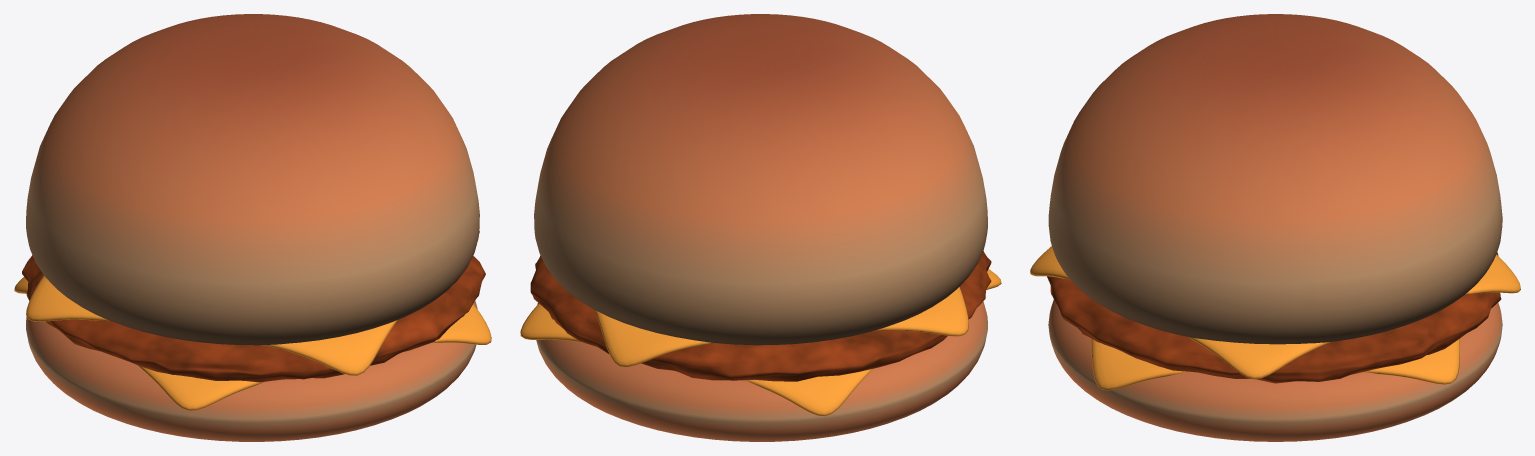
Rendered from burger.glb.
The picture shows the model from 3 angles, left to right: view 1: azimuth 30°, elevation 25°; view 2: azimuth 150°, elevation 25°; view 3: azimuth 270°, elevation 25°; orthographic projection.
Parts seen in each view (by area): view 1: burger_bun_top, burger_bun_bottom, burger_patty, burger_cheese_top, burger_cheese_bottom; view 2: burger_bun_top, burger_bun_bottom, burger_patty, burger_cheese_top, burger_cheese_bottom; view 3: burger_bun_top, burger_bun_bottom, burger_patty, burger_cheese_top, burger_cheese_bottom.
Boxes of the visible parts, x1=… form: burger_bun_top: x1=26, y1=14, x2=479, y2=345; burger_bun_bottom: x1=26, y1=301, x2=477, y2=441; burger_patty: x1=22, y1=255, x2=485, y2=382; burger_cheese_top: x1=26, y1=230, x2=479, y2=375; burger_cheese_bottom: x1=14, y1=277, x2=491, y2=410; burger_bun_top: x1=534, y1=14, x2=987, y2=345; burger_bun_bottom: x1=536, y1=301, x2=987, y2=441; burger_patty: x1=530, y1=251, x2=991, y2=381; burger_cheese_top: x1=595, y1=287, x2=968, y2=366; burger_cheese_bottom: x1=520, y1=269, x2=1001, y2=416; burger_bun_top: x1=1048, y1=14, x2=1502, y2=344; burger_bun_bottom: x1=1048, y1=299, x2=1502, y2=441; burger_patty: x1=1047, y1=252, x2=1501, y2=383; burger_cheese_top: x1=1030, y1=246, x2=1520, y2=379; burger_cheese_bottom: x1=1091, y1=338, x2=1459, y2=390.
Size of the model in its own units: 2.17 by 1.5 by 2.15.
4 materials, 3 textured.
